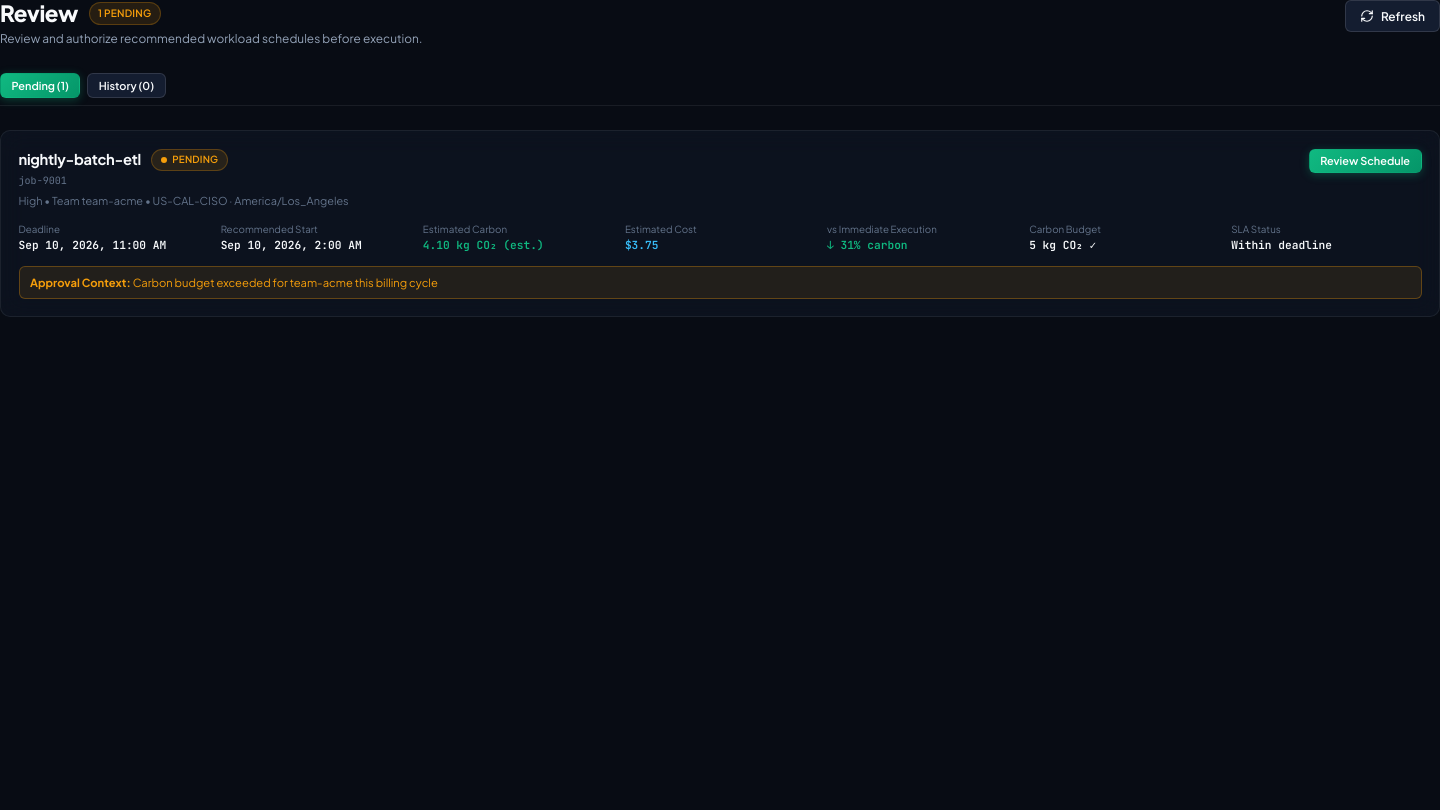
Test: ApprovalsPage › review modal › shows unavailable comparison cells rather than a fabricated figure when baseline data is missing
Click the button "Review Schedule" at (1365, 161), box [1309,148,1422,173]
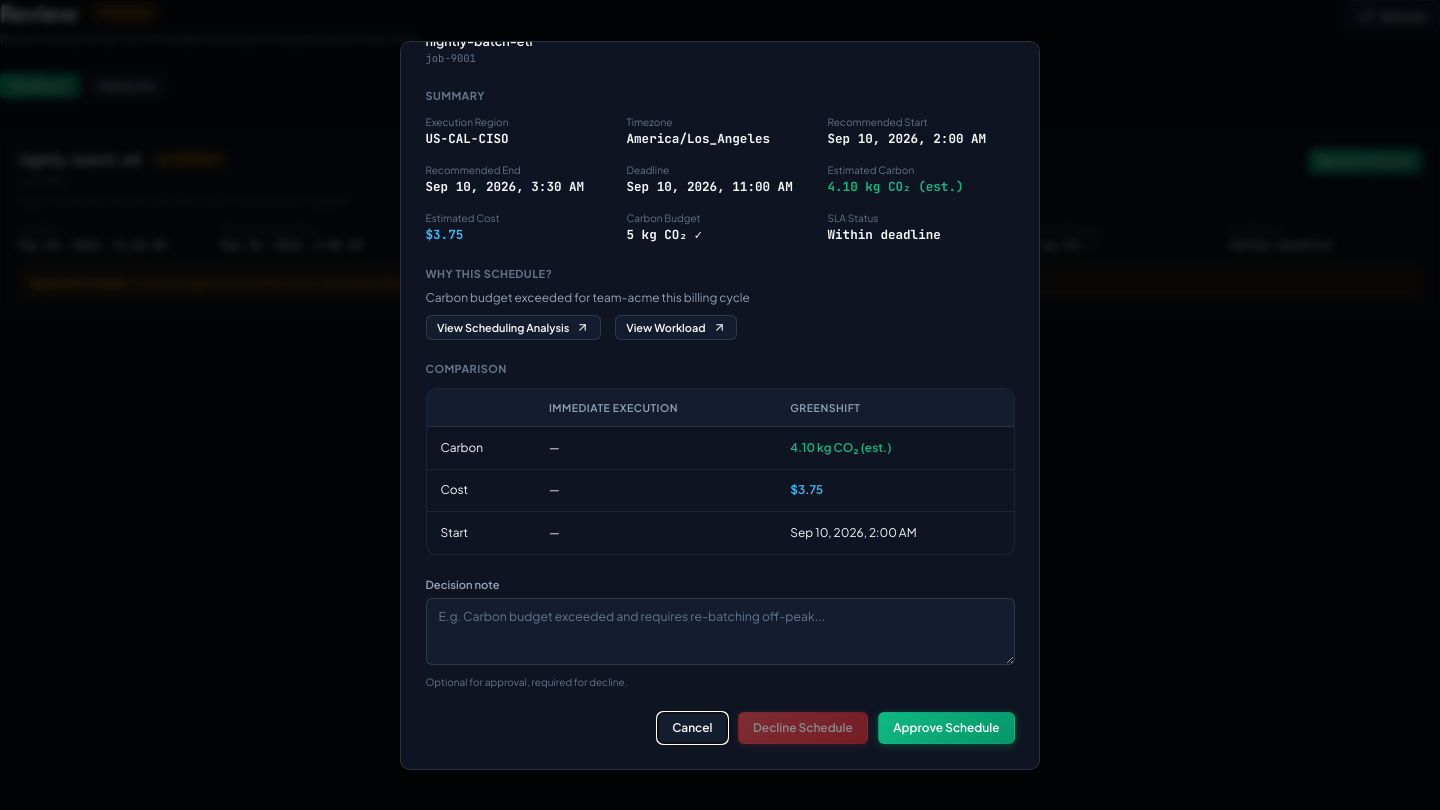
Result: the 1st text "—" is shown at [535,426,776,469]
